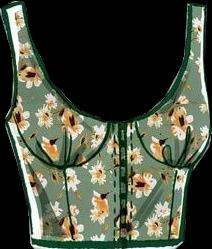Bodice: (1, 1, 210, 248)
Neckline: (20, 2, 191, 122), (10, 108, 110, 169), (133, 118, 195, 168), (120, 118, 124, 245)
Waistline: (29, 238, 186, 248)
